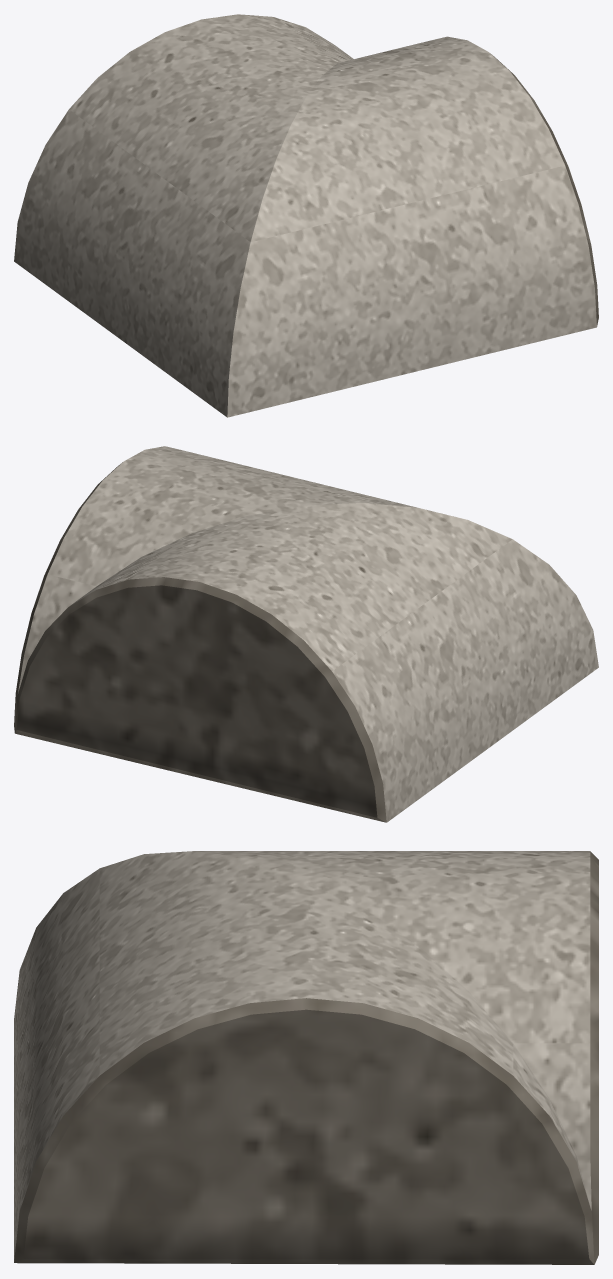
File: GB_005_006_007_008_wall_top_rounded_corner.glb
3 views of the same model, one above another, from view 1: azimuth 30°, elevation 25°; view 2: azimuth 150°, elevation 25°; view 3: azimuth 270°, elevation 25° (orthographic). The views are drawn at different scales.
Visible parts, largest first — view 1: GB_005_006_007_008_wall_top_rounded_corner; view 2: GB_005_006_007_008_wall_top_rounded_corner; view 3: GB_005_006_007_008_wall_top_rounded_corner.
Boxes of the visible parts, box(x1,y1,x2,y2) form: GB_005_006_007_008_wall_top_rounded_corner: box(14, 14, 598, 417); GB_005_006_007_008_wall_top_rounded_corner: box(14, 446, 598, 822); GB_005_006_007_008_wall_top_rounded_corner: box(14, 851, 598, 1264).
Size of the model in its own units: 0.7498 by 0.3748 by 0.7498.
Materials: 1 (1 with a texture image).
